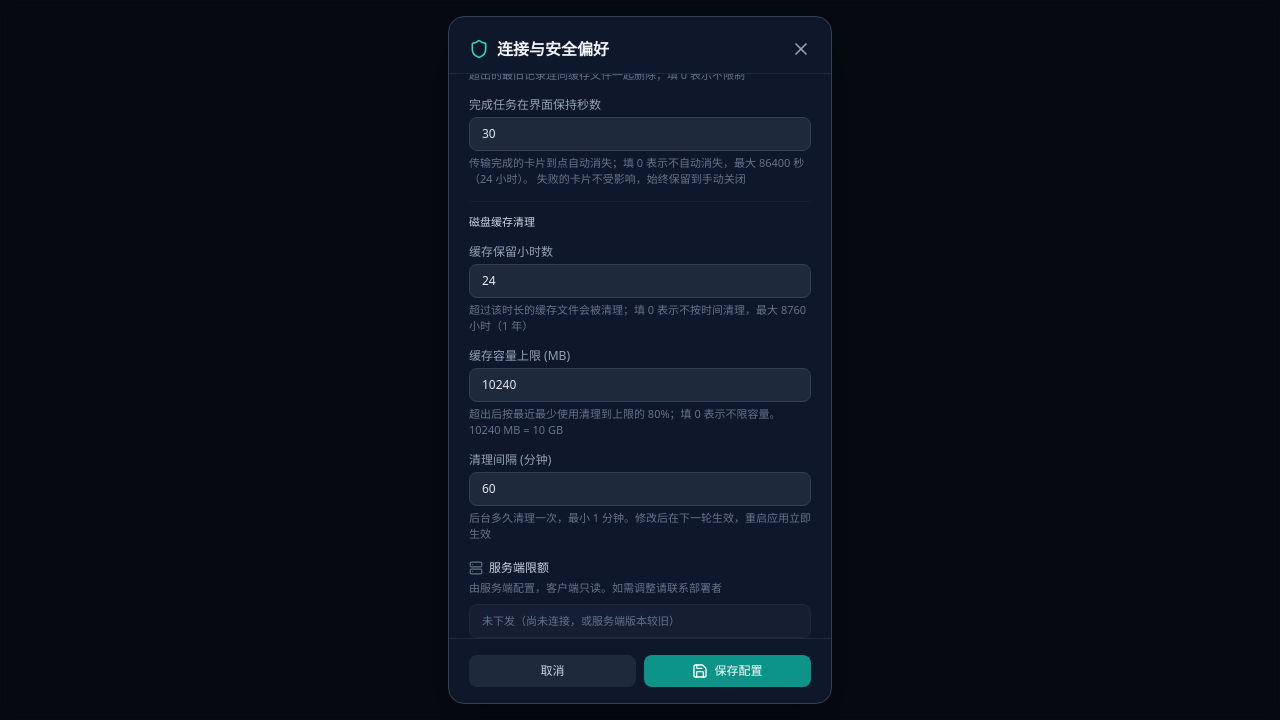
it: 设置面板的数值校验 › 容量上限超过 1TB 被拦下
(page scrolled)
Replace the text in the number field labelled "缓存容量上限 (MB)" with "2000000" at (640, 385), box [469, 368, 811, 402]
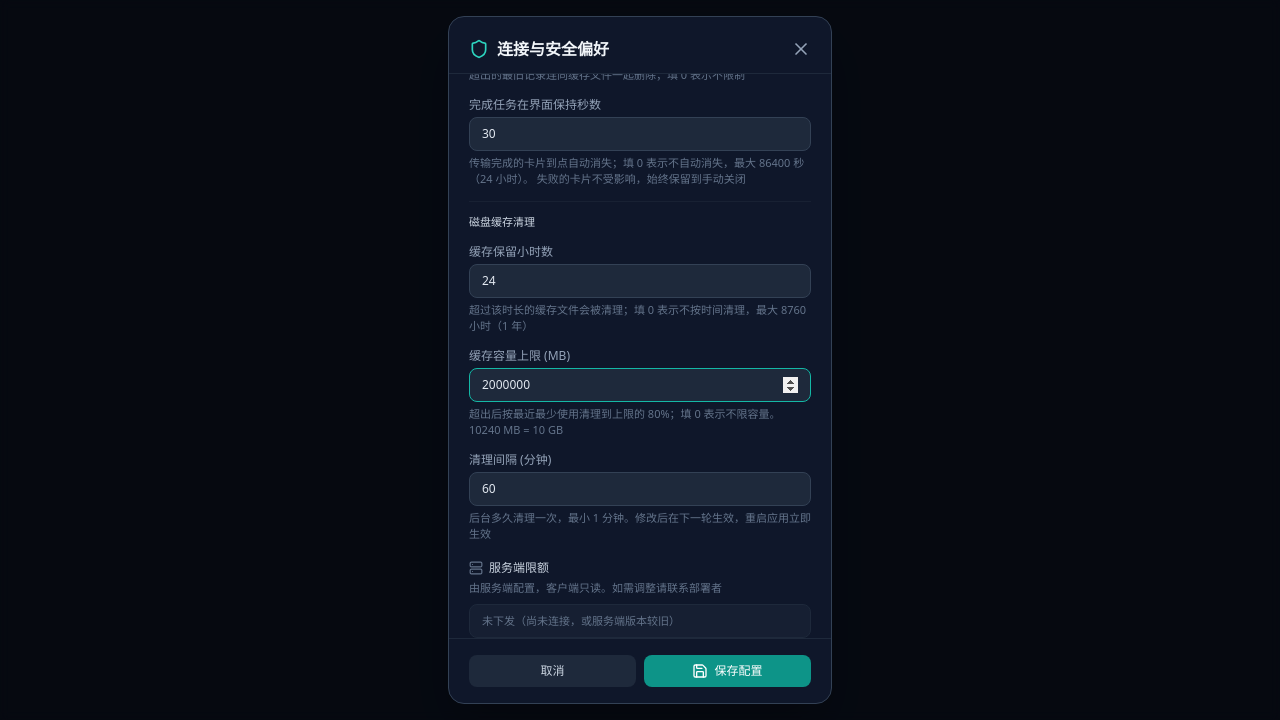
Click the button "保存配置" at (728, 671), box [644, 655, 811, 687]
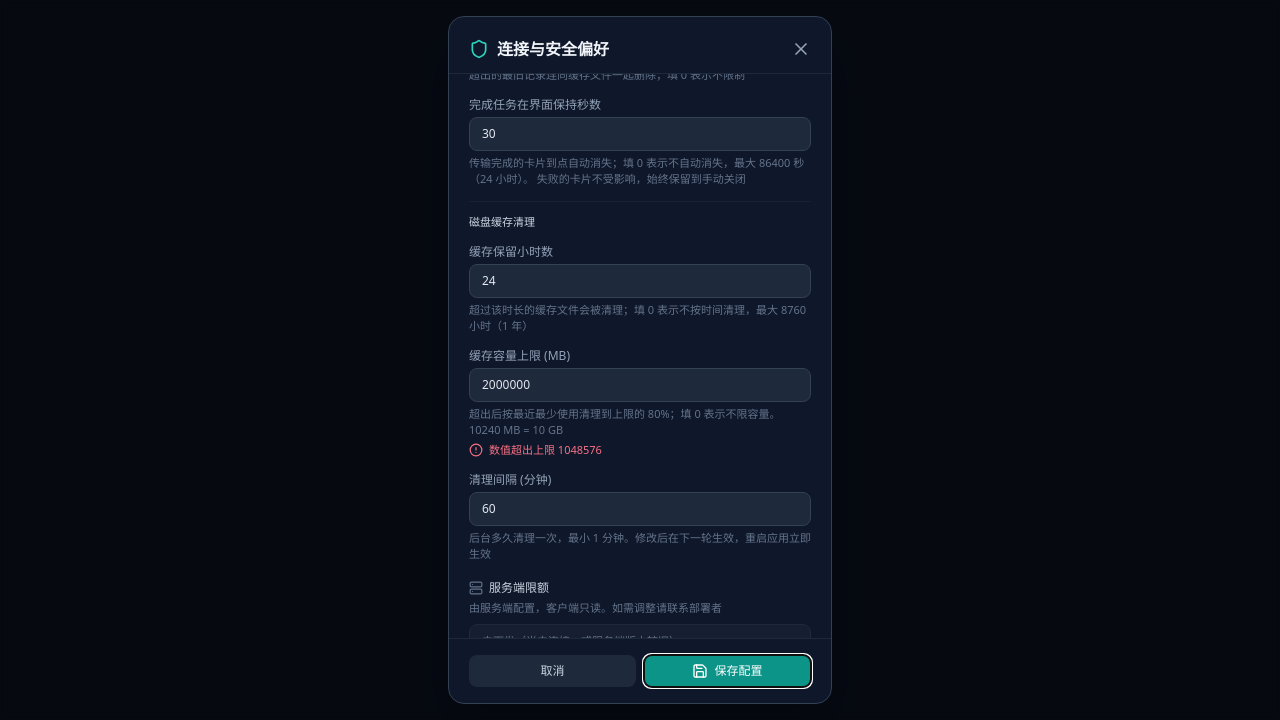
Check: the text "数值超出上限 1048576" is shown, box [489, 442, 602, 458]
